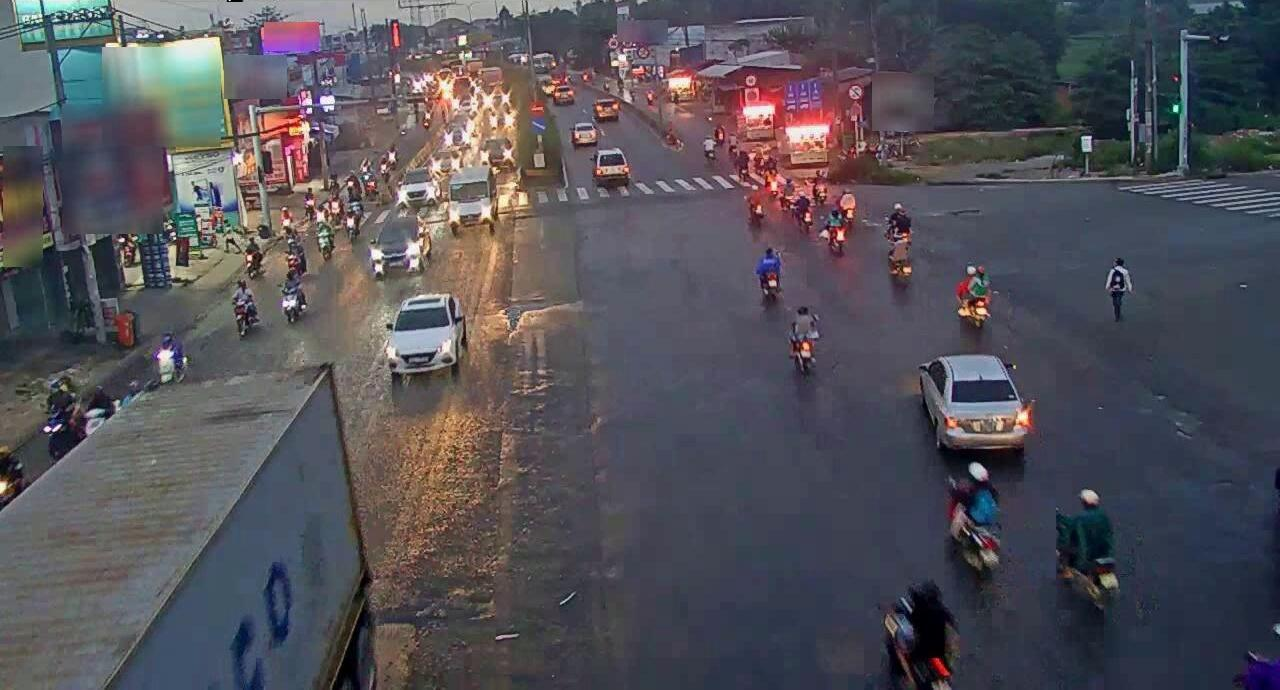xe container: (0, 363, 370, 690)
xe hoi: (917, 348, 1037, 467), (388, 290, 460, 370), (585, 136, 640, 197)
xe may: (1048, 483, 1128, 642), (942, 456, 1004, 575), (784, 295, 822, 383), (954, 262, 995, 334), (878, 193, 917, 265), (882, 224, 918, 294), (753, 240, 786, 303)
